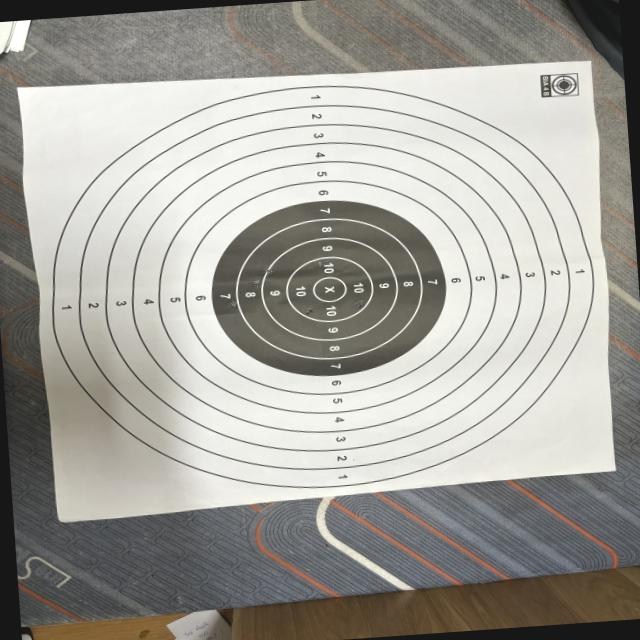bullet: (354, 301, 364, 308), (264, 267, 273, 274), (228, 302, 236, 309), (317, 259, 324, 266), (253, 280, 257, 284), (308, 309, 311, 312)
target: (18, 53, 615, 518)
